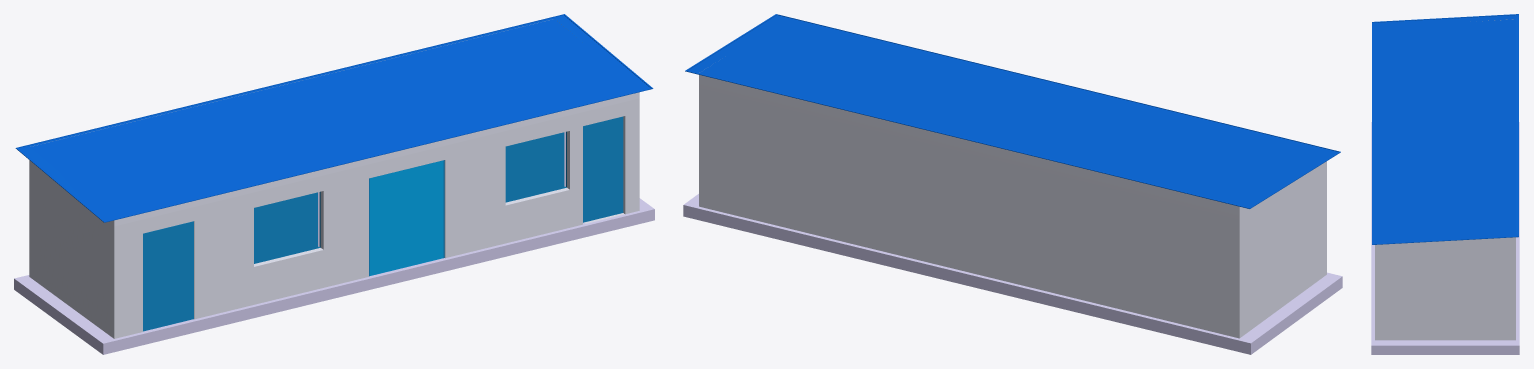
The model's file is Shop 3.fbx.
3 renders of one model, left to right at view 1: azimuth 30°, elevation 25°; view 2: azimuth 150°, elevation 25°; view 3: azimuth 270°, elevation 25°, orthographic. The views are drawn at different scales.
Parts seen in each view (by area): view 1: building_003; view 2: building_003; view 3: building_003.
Boxes of the visible parts, <box> form: building_003: <box>14,14,654,354</box>; building_003: <box>683,14,1342,354</box>; building_003: <box>1371,14,1519,354</box>.
Bounding box in the file's own units: 1027 × 252 × 287.
